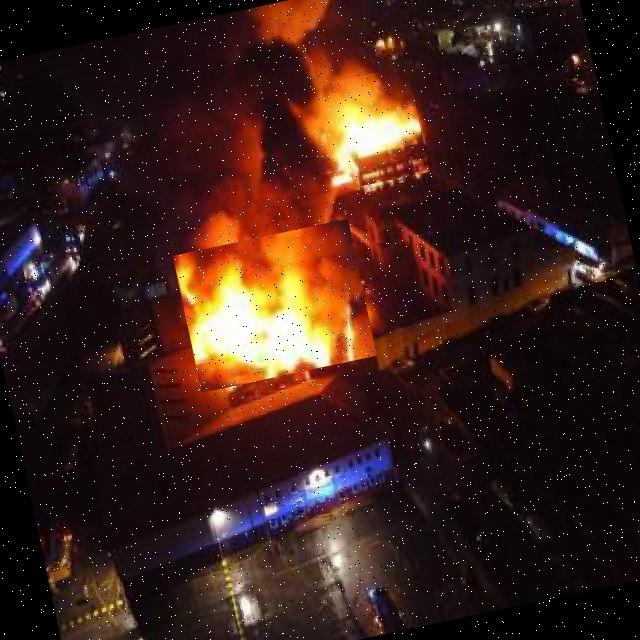fire: (172, 218, 376, 392), (273, 66, 429, 200)
